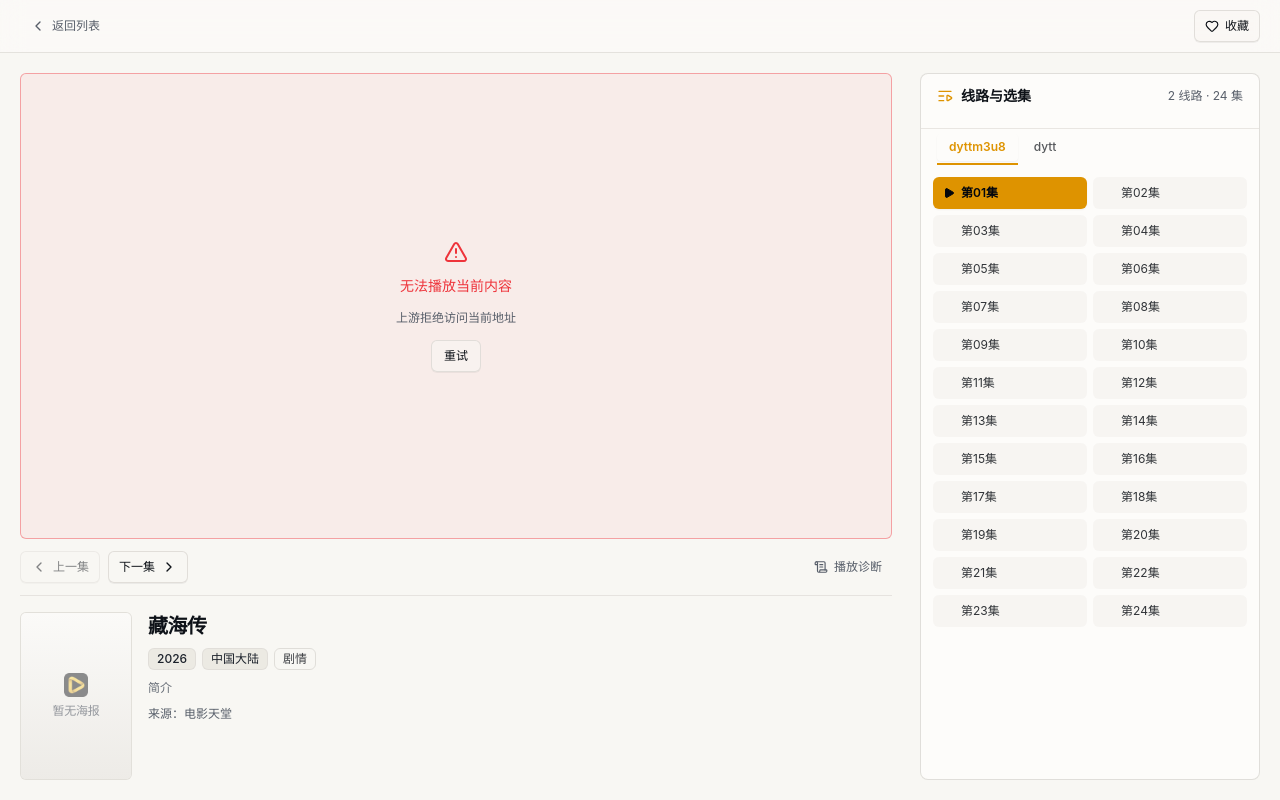
PlayerView composition › offers the diagnostics as a dialog once playback fails
Expected: the button "复制诊断" is not shown
What coordinates should you click on to do the following:
click the button "播放诊断"
I would click on:
 (848, 567)
Its box is [804,551,892,583].
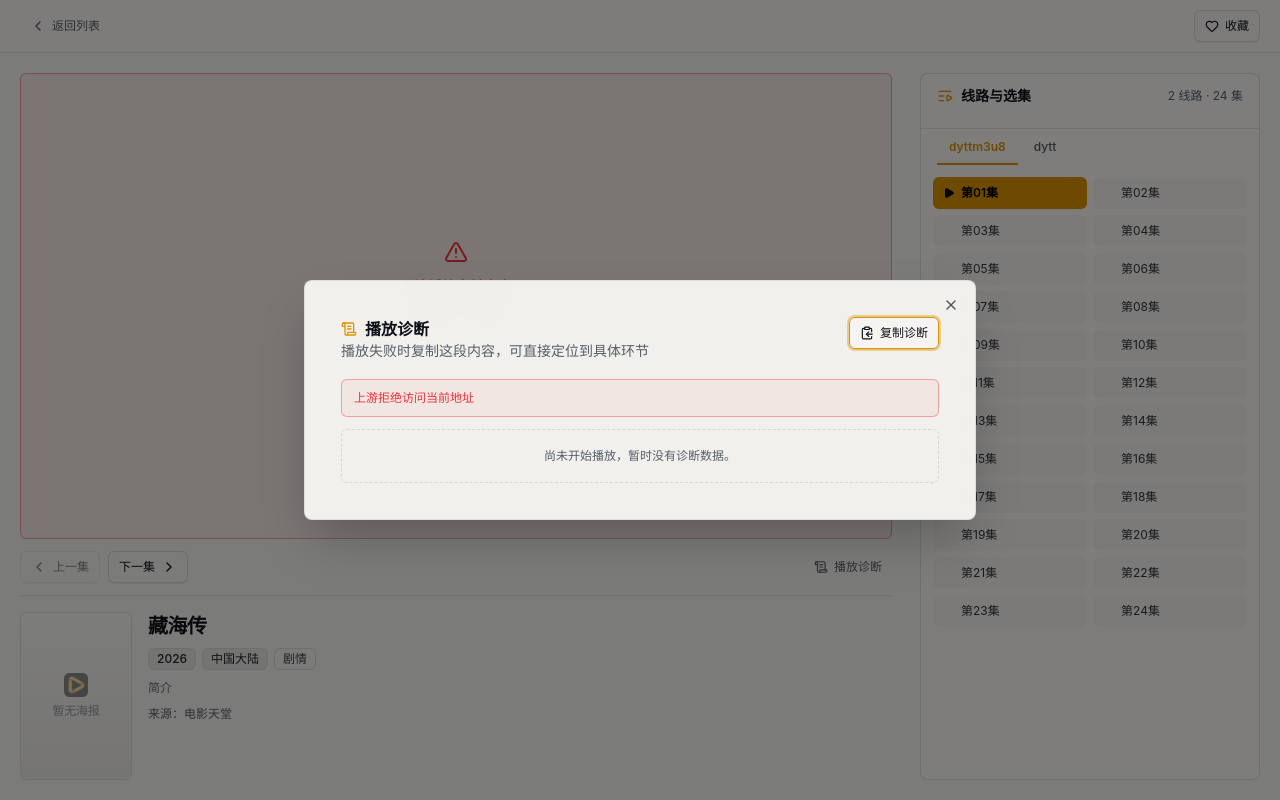
Expected: the text "上游拒绝访问当前地址" below "无法播放当前内容" is shown, [396,310,516,325]
Result: the button "复制诊断" is shown at [849,317,939,349]
